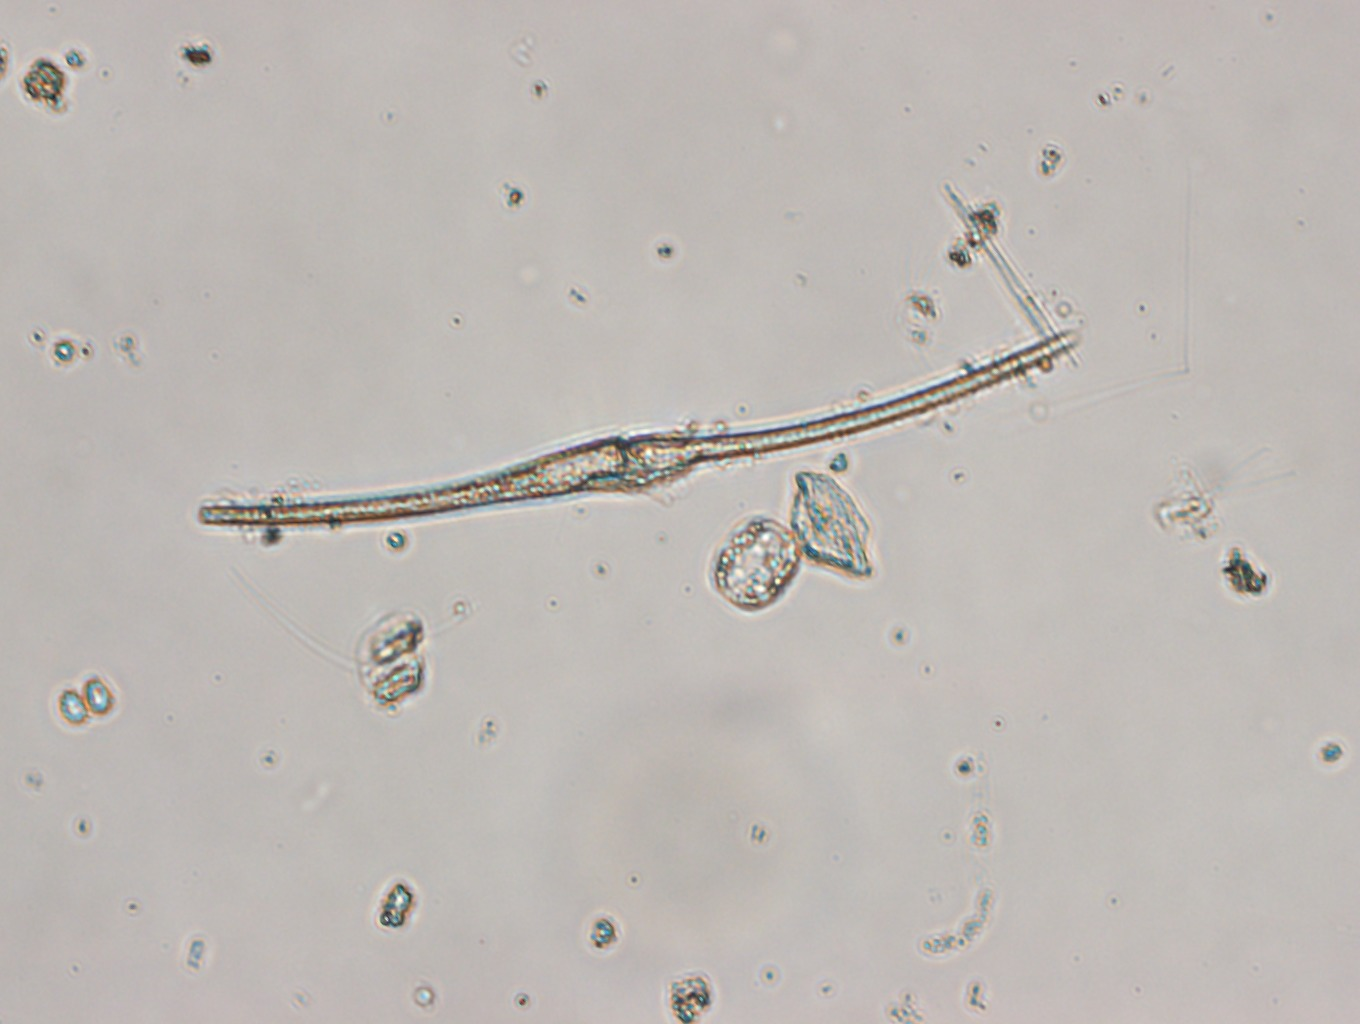ceratium fusus: (182, 327, 1089, 557)
